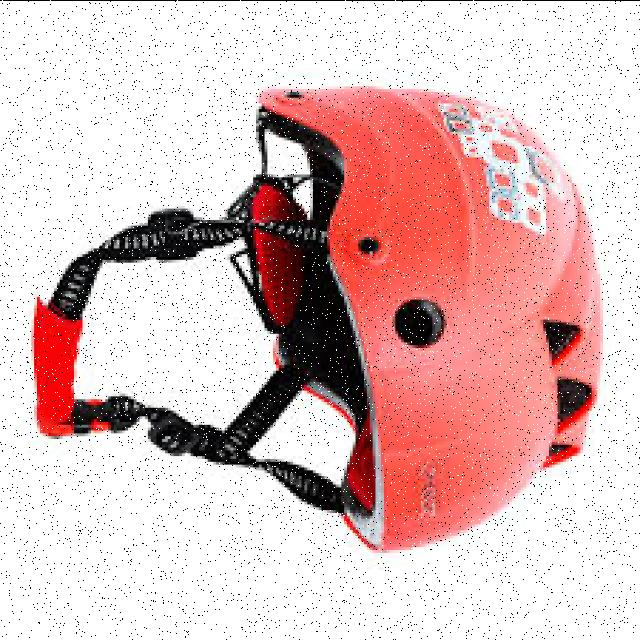Helmet: (236, 70, 640, 557)
